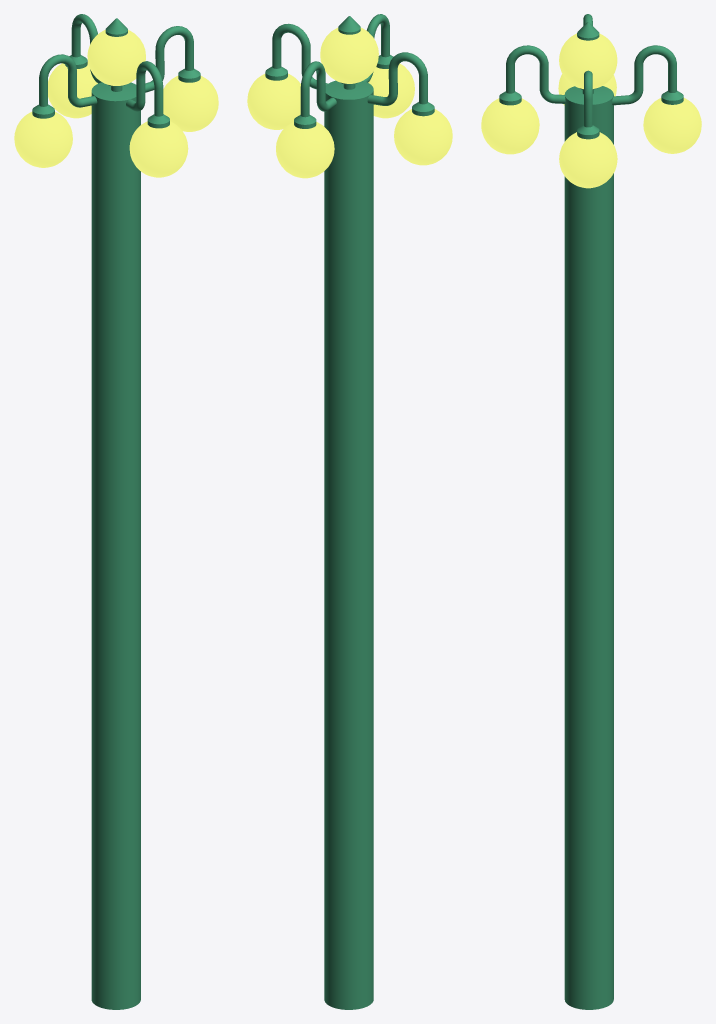
File: lampara.glb
The picture shows the model from 3 angles, left to right: view 1: azimuth 30°, elevation 25°; view 2: azimuth 150°, elevation 25°; view 3: azimuth 270°, elevation 25°; orthographic projection.
Visible parts, largest first — view 1: Circle; view 2: Circle; view 3: Circle.
Part boxes in pixels (x1,y1,x2,y2): Circle: (14,14,218,1009); Circle: (247,14,452,1009); Circle: (481,14,701,1009).
Size of the model in its own units: 7.74 by 36.84 by 7.54.
